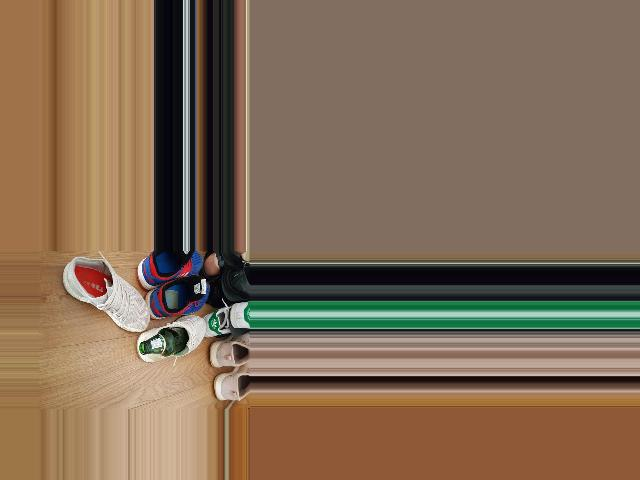beer: (138, 327, 187, 356)
